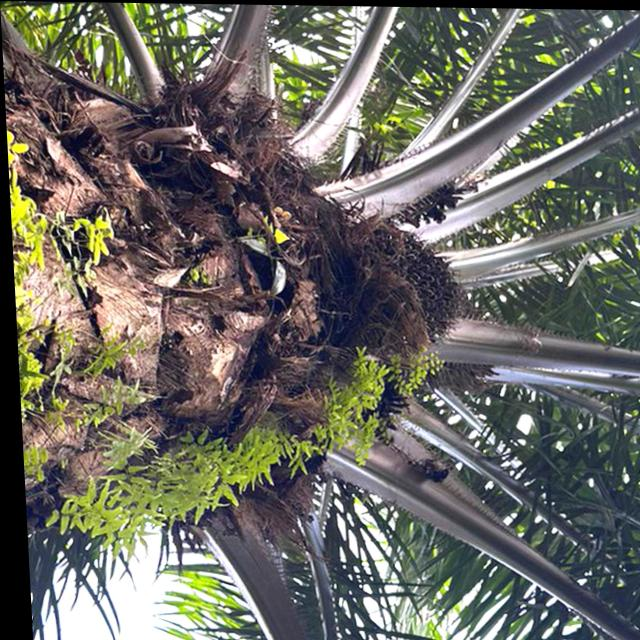almost: (339, 214, 475, 363)
